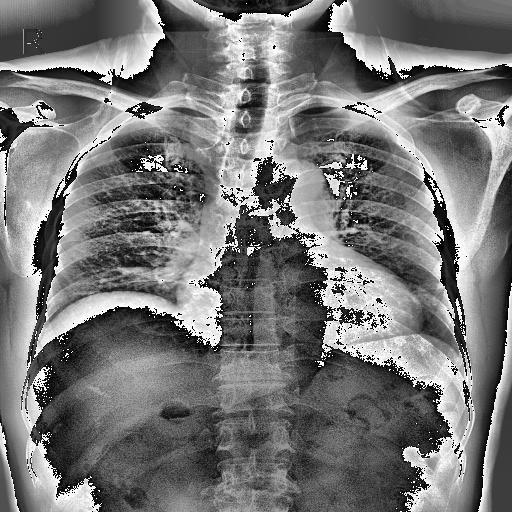0- Aortic enlargement: (264, 158, 337, 234), (258, 161, 332, 215), (263, 160, 327, 212)
11- Pleural thickening: (363, 112, 398, 140)
3- Cardiomegaly: (175, 266, 422, 336), (174, 284, 424, 348)
9- Other lesion: (184, 104, 219, 170)
